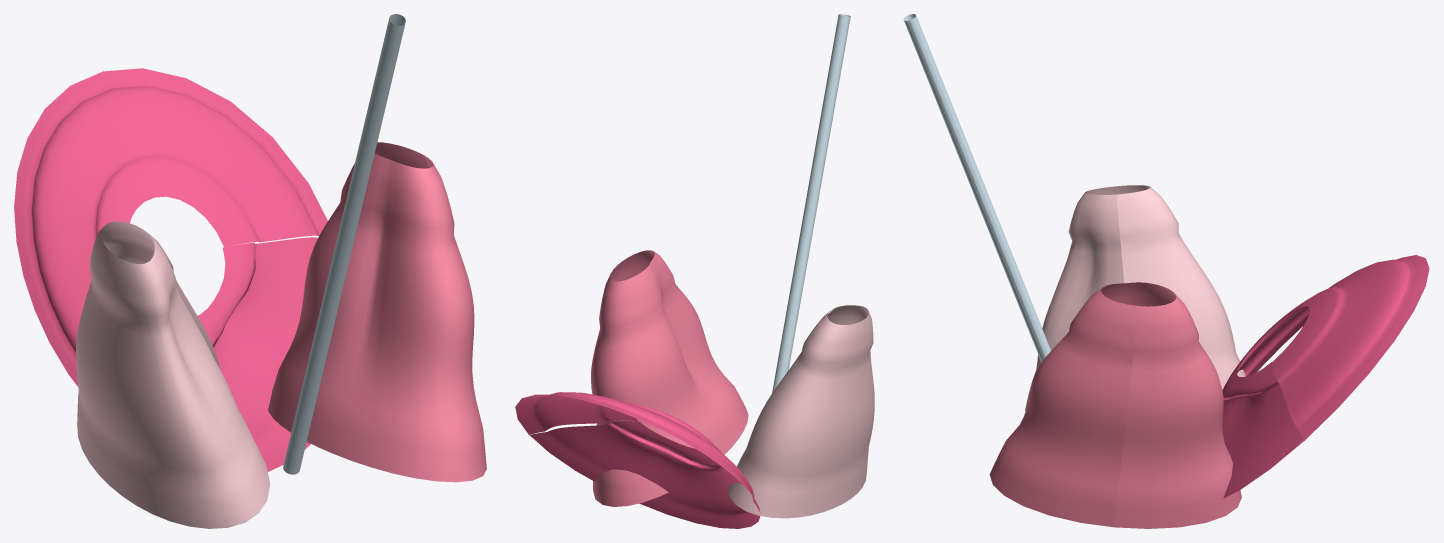
Rendered from respiratory.glb.
3 renders of one model, left to right at view 1: azimuth 30°, elevation 25°; view 2: azimuth 150°, elevation 25°; view 3: azimuth 270°, elevation 25°, orthographic. The views are drawn at different scales.
Parts seen in each view (by area): view 1: Mesh_Ovine_Diaphragma, Mesh_Ovine_Pulmo_Dexter, Mesh_Ovine_Pulmo_Sinister, Mesh_Ovine_Trachea; view 2: Mesh_Ovine_Pulmo_Sinister, Mesh_Ovine_Pulmo_Dexter, Mesh_Ovine_Diaphragma, Mesh_Ovine_Trachea; view 3: Mesh_Ovine_Pulmo_Dexter, Mesh_Ovine_Diaphragma, Mesh_Ovine_Pulmo_Sinister, Mesh_Ovine_Trachea.
Boxes of the visible parts, bbox=[...] form: Mesh_Ovine_Diaphragma: bbox=[14, 68, 327, 471]; Mesh_Ovine_Pulmo_Dexter: bbox=[268, 142, 486, 482]; Mesh_Ovine_Pulmo_Sinister: bbox=[76, 221, 270, 528]; Mesh_Ovine_Trachea: bbox=[283, 14, 405, 474]; Mesh_Ovine_Pulmo_Sinister: bbox=[728, 305, 874, 518]; Mesh_Ovine_Pulmo_Dexter: bbox=[591, 250, 748, 506]; Mesh_Ovine_Diaphragma: bbox=[515, 392, 760, 528]; Mesh_Ovine_Trachea: bbox=[772, 14, 850, 393]; Mesh_Ovine_Pulmo_Dexter: bbox=[989, 282, 1241, 528]; Mesh_Ovine_Diaphragma: bbox=[1222, 255, 1429, 498]; Mesh_Ovine_Pulmo_Sinister: bbox=[1025, 185, 1245, 410]; Mesh_Ovine_Trachea: bbox=[903, 14, 1051, 362].
Size of the model in its own units: 0.3529 by 0.5762 by 0.589.
